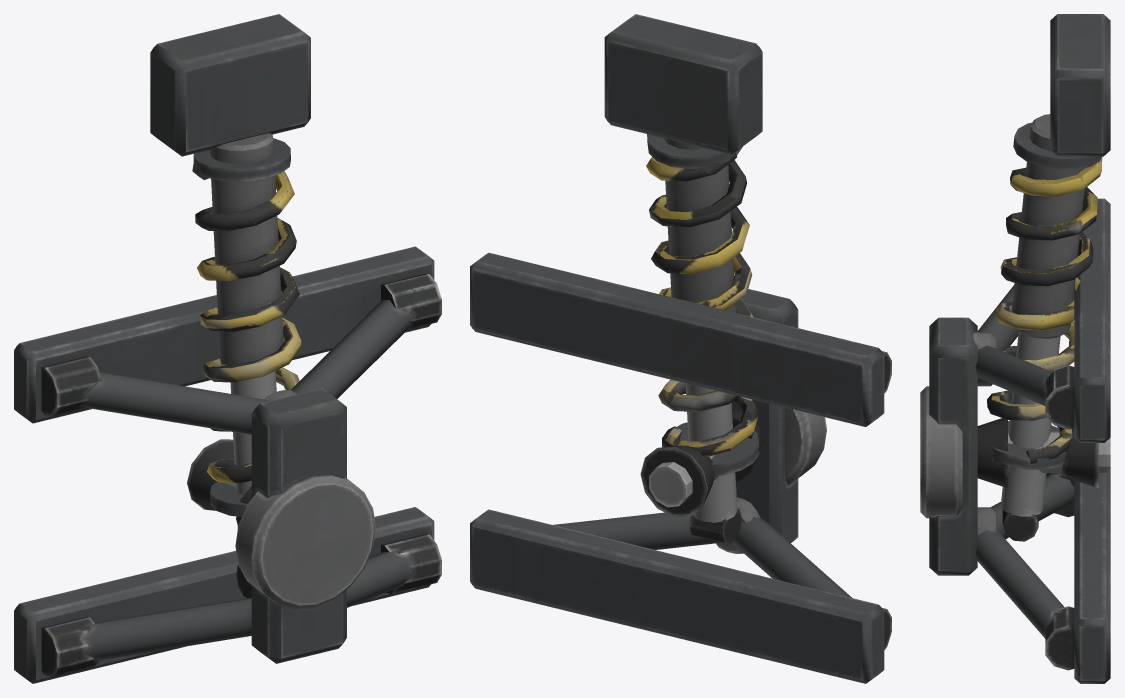
File: suspension.glb
3 views of the same model, side by side, from view 1: azimuth 30°, elevation 25°; view 2: azimuth 150°, elevation 25°; view 3: azimuth 270°, elevation 25° (orthographic). The views are drawn at different scales.
Visible parts, largest first — view 1: suspension; view 2: suspension; view 3: suspension.
Boxes of the visible parts, <box> form: suspension: <box>14,14,441,683</box>; suspension: <box>470,14,891,683</box>; suspension: <box>920,14,1110,683</box>.
Bounding box in the file's own units: 0.72 × 1.01 × 0.315.
Materials: 1 (1 with a texture image).
